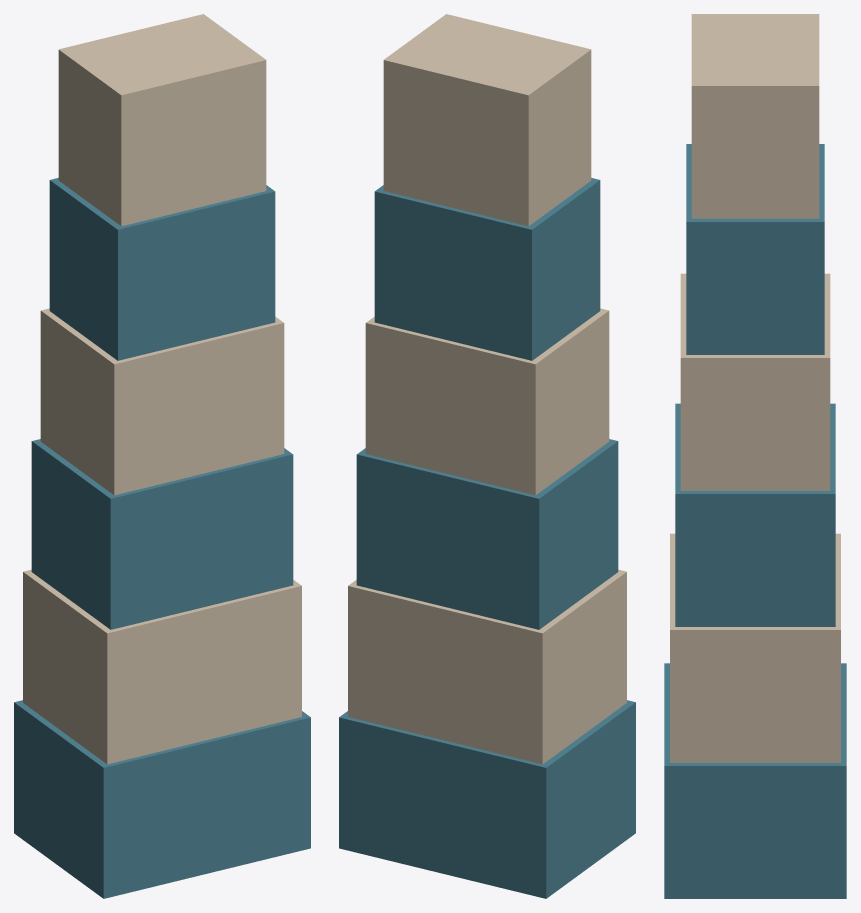
The model's file is bh_waterfront_tower_c_01_lod0.glb.
3 renders of one model, left to right at view 1: azimuth 30°, elevation 25°; view 2: azimuth 150°, elevation 25°; view 3: azimuth 270°, elevation 25°, orthographic.
Parts seen in each view (by area): view 1: bh_waterfront_tower_c_01_tier_00, bh_waterfront_tower_c_01_tier_01, bh_waterfront_tower_c_01_tier_05, bh_waterfront_tower_c_01_tier_02, bh_waterfront_tower_c_01_tier_03, bh_waterfront_tower_c_01_tier_04; view 2: bh_waterfront_tower_c_01_tier_00, bh_waterfront_tower_c_01_tier_01, bh_waterfront_tower_c_01_tier_05, bh_waterfront_tower_c_01_tier_02, bh_waterfront_tower_c_01_tier_03, bh_waterfront_tower_c_01_tier_04; view 3: bh_waterfront_tower_c_01_tier_05, bh_waterfront_tower_c_01_tier_00, bh_waterfront_tower_c_01_tier_01, bh_waterfront_tower_c_01_tier_02, bh_waterfront_tower_c_01_tier_03, bh_waterfront_tower_c_01_tier_04.
Part boxes in pixels (bbox=[...]): bh_waterfront_tower_c_01_tier_00: bbox=[14, 700, 310, 898]; bh_waterfront_tower_c_01_tier_01: bbox=[23, 569, 301, 764]; bh_waterfront_tower_c_01_tier_05: bbox=[58, 14, 266, 226]; bh_waterfront_tower_c_01_tier_02: bbox=[31, 439, 293, 629]; bh_waterfront_tower_c_01_tier_03: bbox=[40, 308, 284, 495]; bh_waterfront_tower_c_01_tier_04: bbox=[49, 178, 275, 360]; bh_waterfront_tower_c_01_tier_00: bbox=[339, 700, 635, 898]; bh_waterfront_tower_c_01_tier_01: bbox=[348, 569, 626, 764]; bh_waterfront_tower_c_01_tier_05: bbox=[383, 14, 591, 226]; bh_waterfront_tower_c_01_tier_02: bbox=[356, 439, 618, 629]; bh_waterfront_tower_c_01_tier_03: bbox=[365, 308, 609, 495]; bh_waterfront_tower_c_01_tier_04: bbox=[374, 178, 600, 360]; bh_waterfront_tower_c_01_tier_05: bbox=[691, 14, 819, 218]; bh_waterfront_tower_c_01_tier_00: bbox=[664, 663, 846, 898]; bh_waterfront_tower_c_01_tier_01: bbox=[670, 533, 840, 762]; bh_waterfront_tower_c_01_tier_02: bbox=[675, 403, 835, 626]; bh_waterfront_tower_c_01_tier_03: bbox=[680, 273, 830, 490]; bh_waterfront_tower_c_01_tier_04: bbox=[686, 144, 824, 354].
Bounding box in the file's own units: 8 × 29 × 6.
